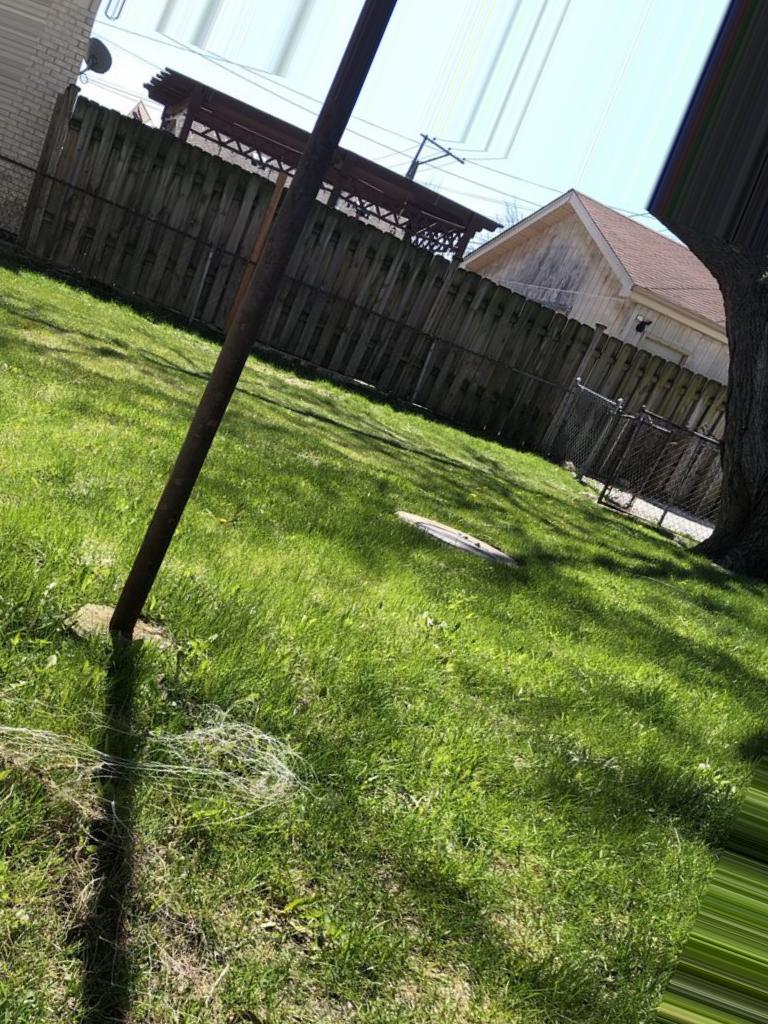patch: (50, 792, 277, 1017)
